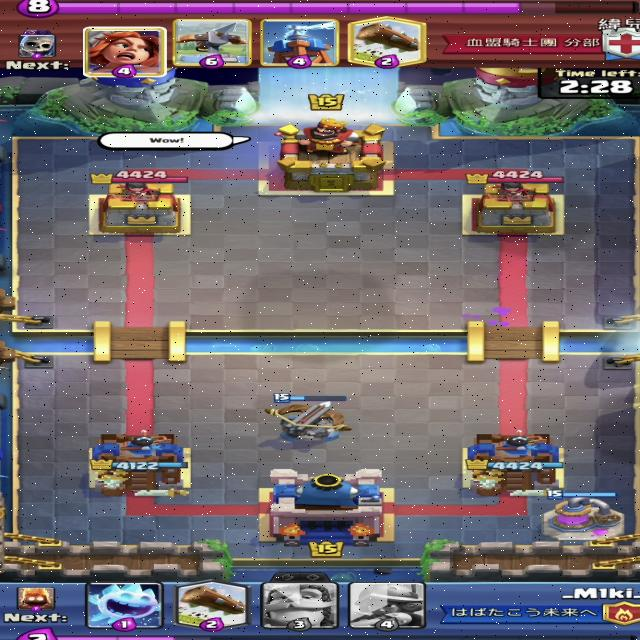Player-ElixirPump: (540, 489, 628, 542)
Player-XBow: (264, 393, 354, 441)
